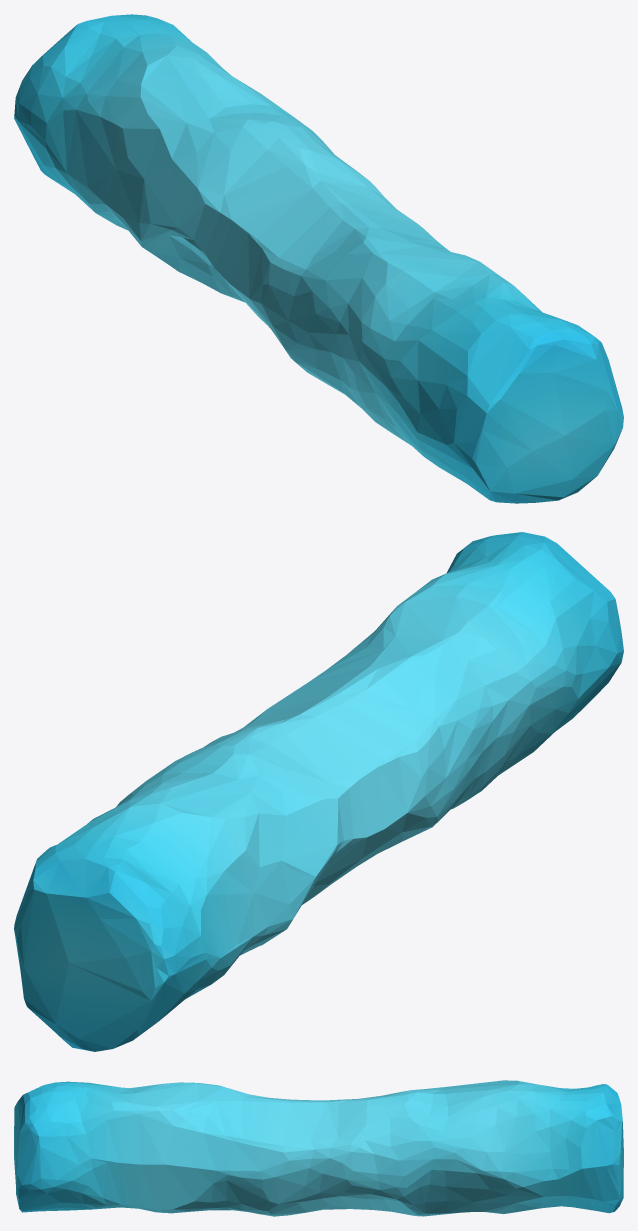
File: obstacle_3_001.fbx
3 views of the same model, one above another, from view 1: azimuth 30°, elevation 25°; view 2: azimuth 150°, elevation 25°; view 3: azimuth 270°, elevation 25° (orthographic). The views are drawn at different scales.
Parts seen in each view (by area): view 1: obstacle_3_001; view 2: obstacle_3_001; view 3: obstacle_3_001.
Boxes of the visible parts, x1=… form: obstacle_3_001: x1=14, y1=14, x2=623, y2=503; obstacle_3_001: x1=14, y1=532, x2=623, y2=1051; obstacle_3_001: x1=14, y1=1080, x2=623, y2=1216.
Bounding box in the file's own units: 422 × 1892 × 424.
